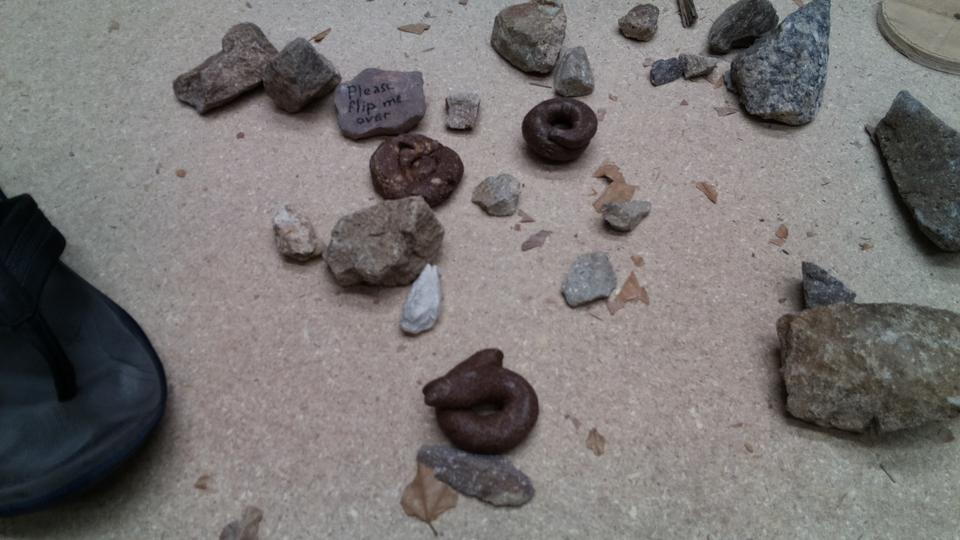poop: (419, 345, 542, 458), (368, 128, 465, 208), (520, 94, 601, 168)
